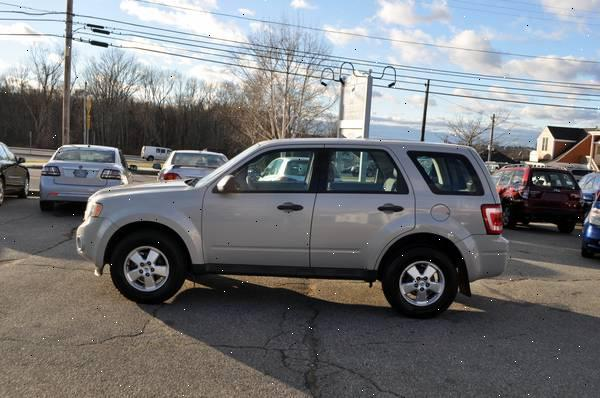Front_Bumper: (75, 217, 115, 275)
Front_Fender: (93, 188, 206, 266)
Front_Left_Door: (203, 193, 317, 274)
Front_Left_Window: (209, 147, 324, 194)
Left_Headlight: (86, 202, 105, 219)
Left_Taillight: (480, 201, 503, 235)
Rear_Bumper: (456, 232, 509, 284)
Rear_Fender: (392, 148, 485, 244)
Rear_Left_Door: (311, 196, 415, 277)
Rear_Left_Window: (316, 148, 411, 200)
Roof: (200, 136, 498, 203)
Wheel: (381, 244, 459, 318), (108, 231, 186, 303)
